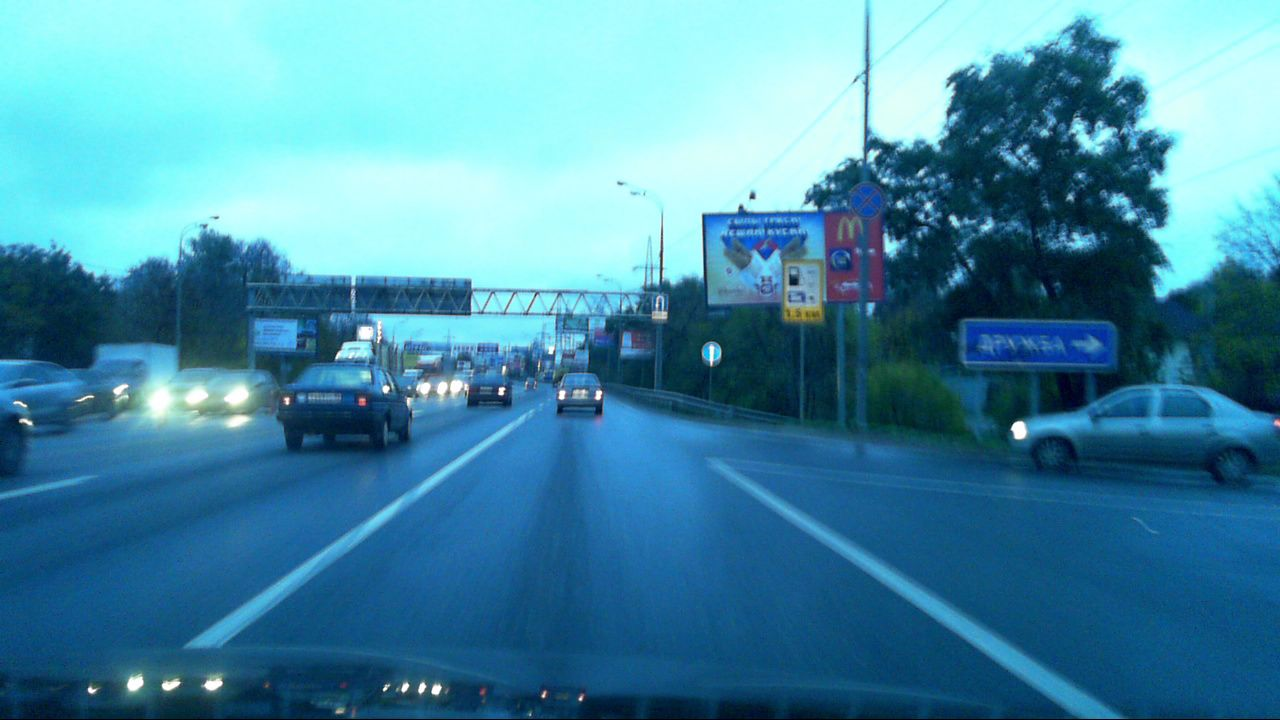No Parking: (848, 182, 884, 218)
U-turn: (651, 294, 669, 311)
